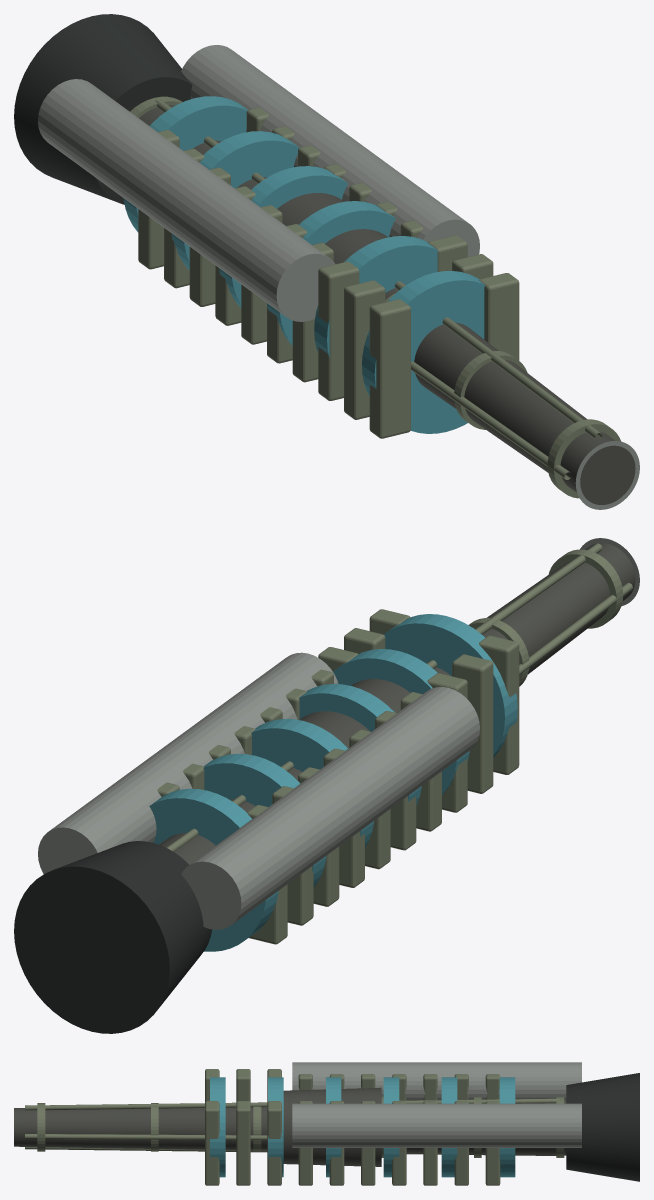
The model's file is barrel_2.glb.
The picture shows the model from 3 angles, top to bottom: view 1: azimuth 30°, elevation 25°; view 2: azimuth 150°, elevation 25°; view 3: azimuth 270°, elevation 25°; orthographic projection. The views are drawn at different scales.
Visible parts, largest first — view 1: barrel_2; view 2: barrel_2; view 3: barrel_2.
Part boxes in pixels (x1,y1,x2,y2): barrel_2: (14,14,639,509); barrel_2: (14,538,639,1033); barrel_2: (14,1062,639,1185).
Bounding box in the file's own units: 0.64 × 0.49 × 2.81.
